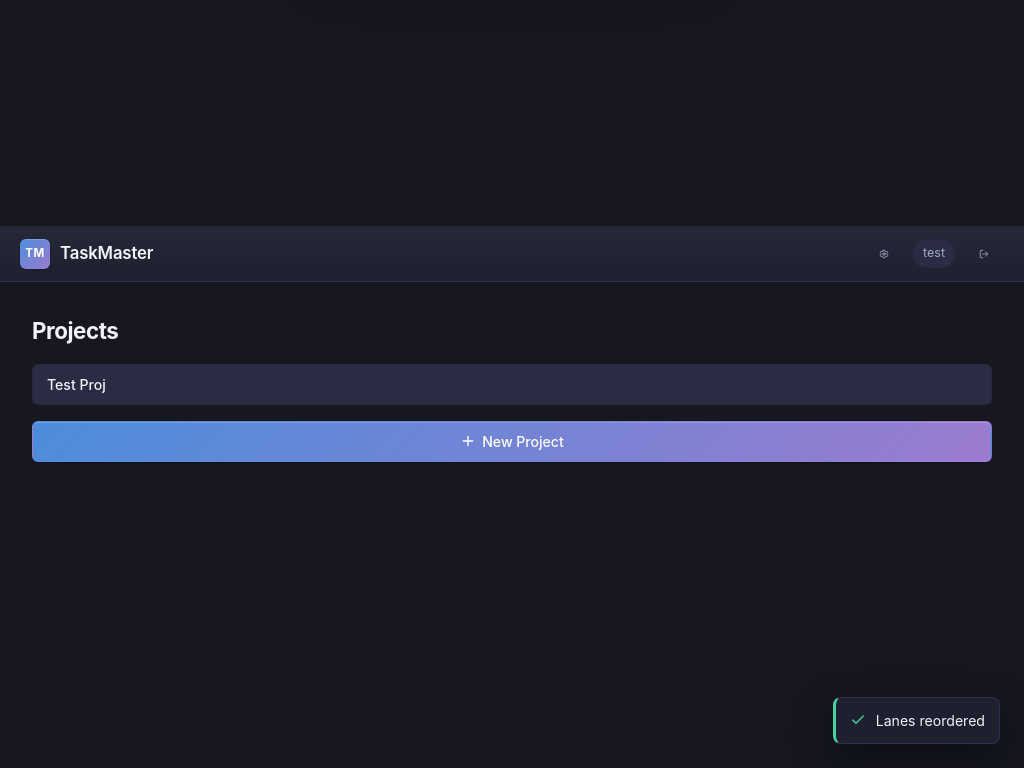
Test case: App › board shows error state for task fetch failure
(page scrolled)
Click the button "Test Proj": (76, 384) [32, 364, 992, 405]
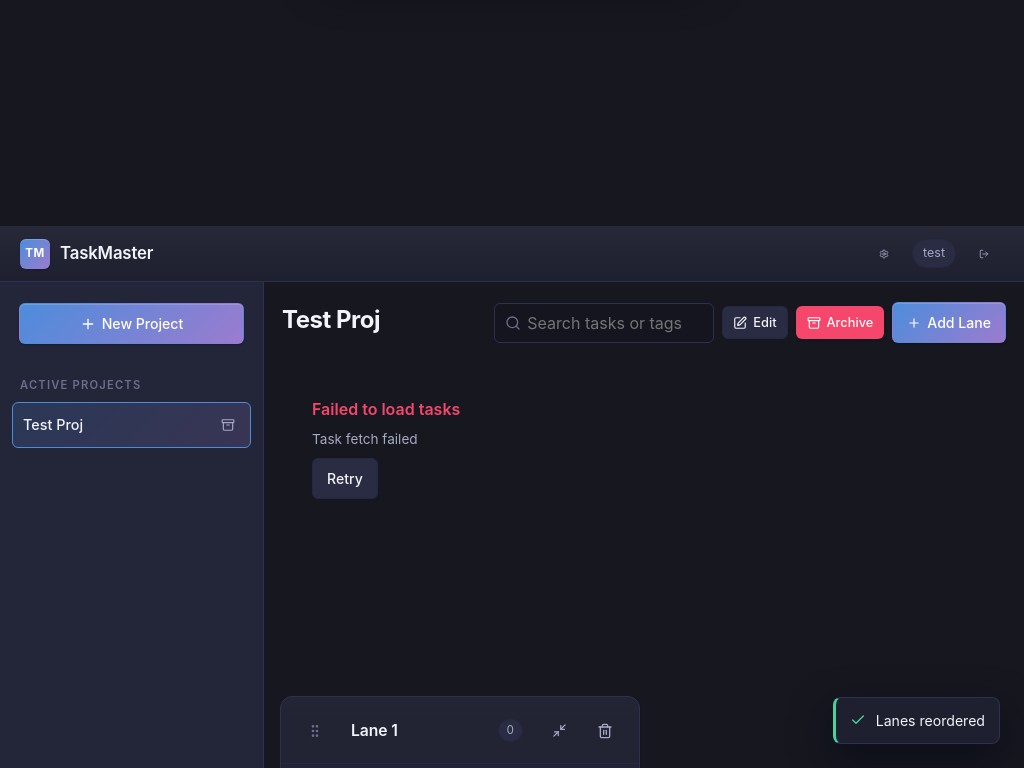
Now the text "Failed to load tasks" is shown, box [312, 397, 460, 421]
Now the button "Retry" is shown, box [312, 458, 378, 499]
